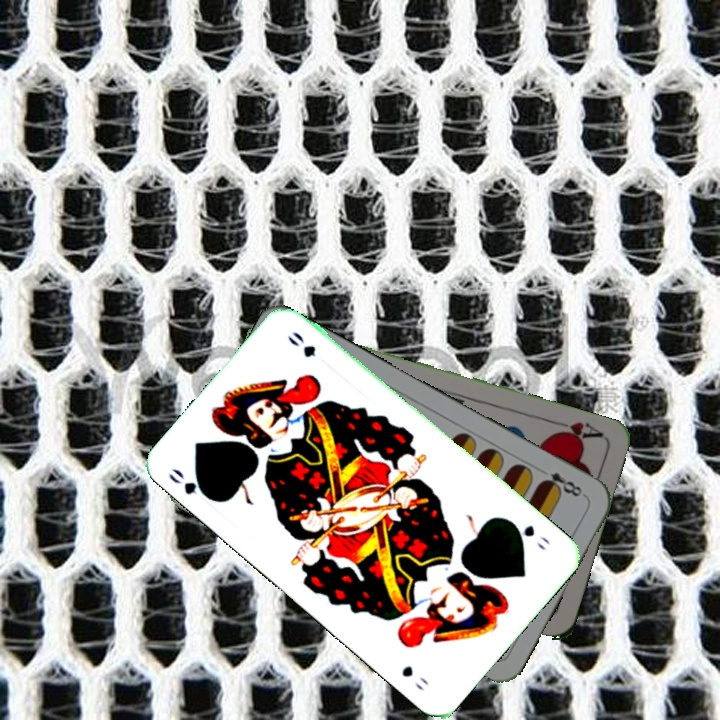E8: (536, 468, 588, 500)
GO: (164, 464, 217, 504), (506, 516, 552, 553)
HA: (547, 416, 605, 445)
